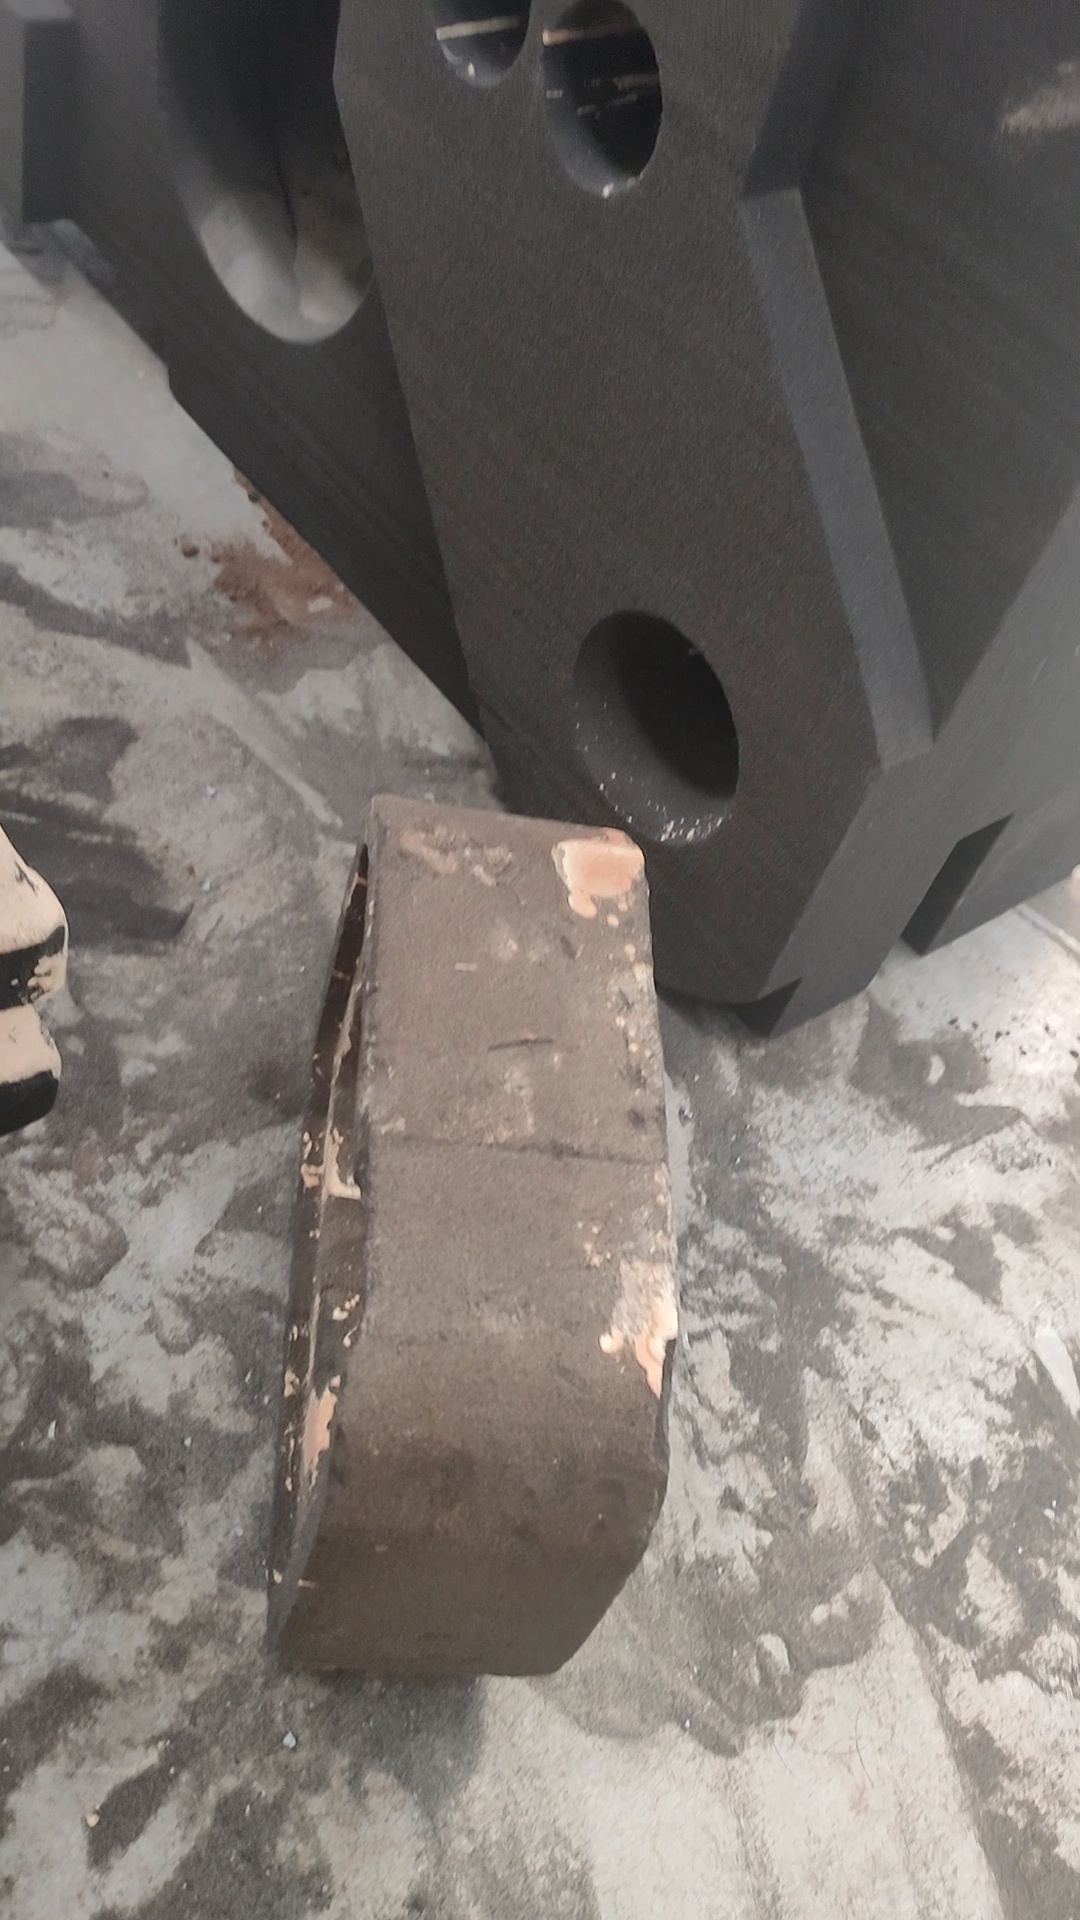pouring hole: (572, 611, 738, 847)
